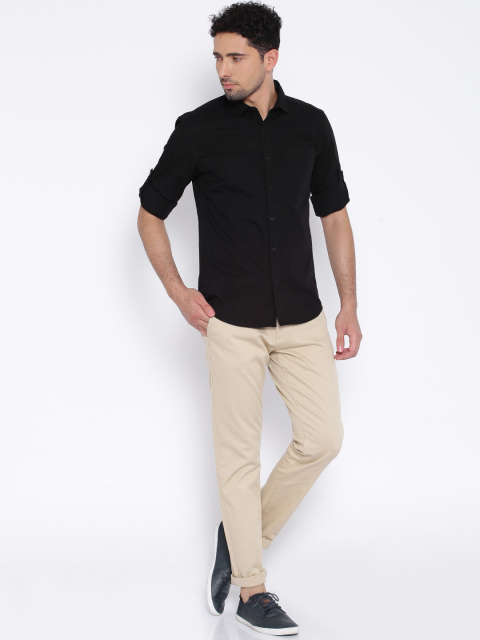jeans: (198, 333, 343, 588)
shirt: (137, 90, 353, 330)
